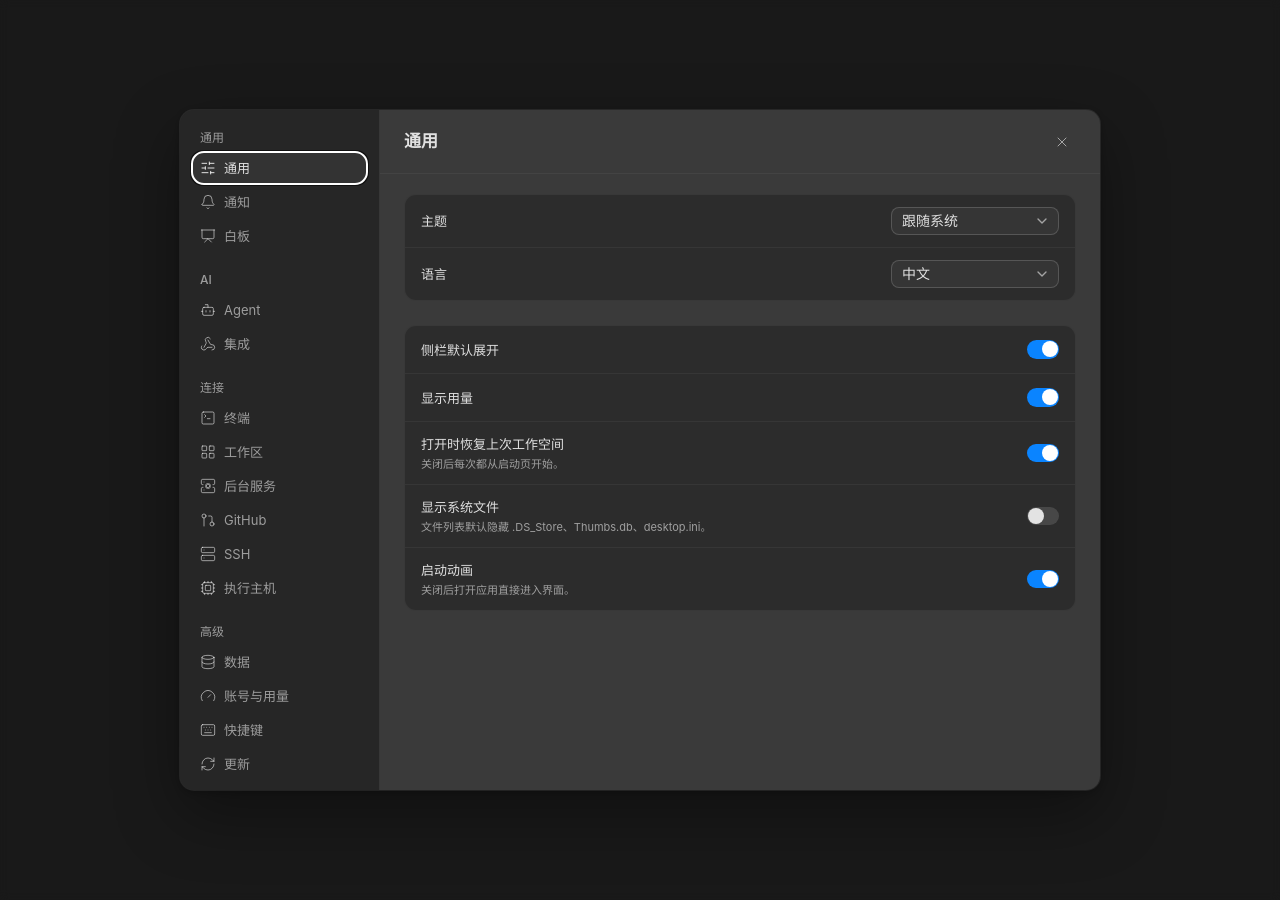
Scenario: SettingsDialog › 数据页读 info 并按选项 PATCH 日志保留天数
Click the button "数据": {"x": 280, "y": 662} [192,646,367,678]
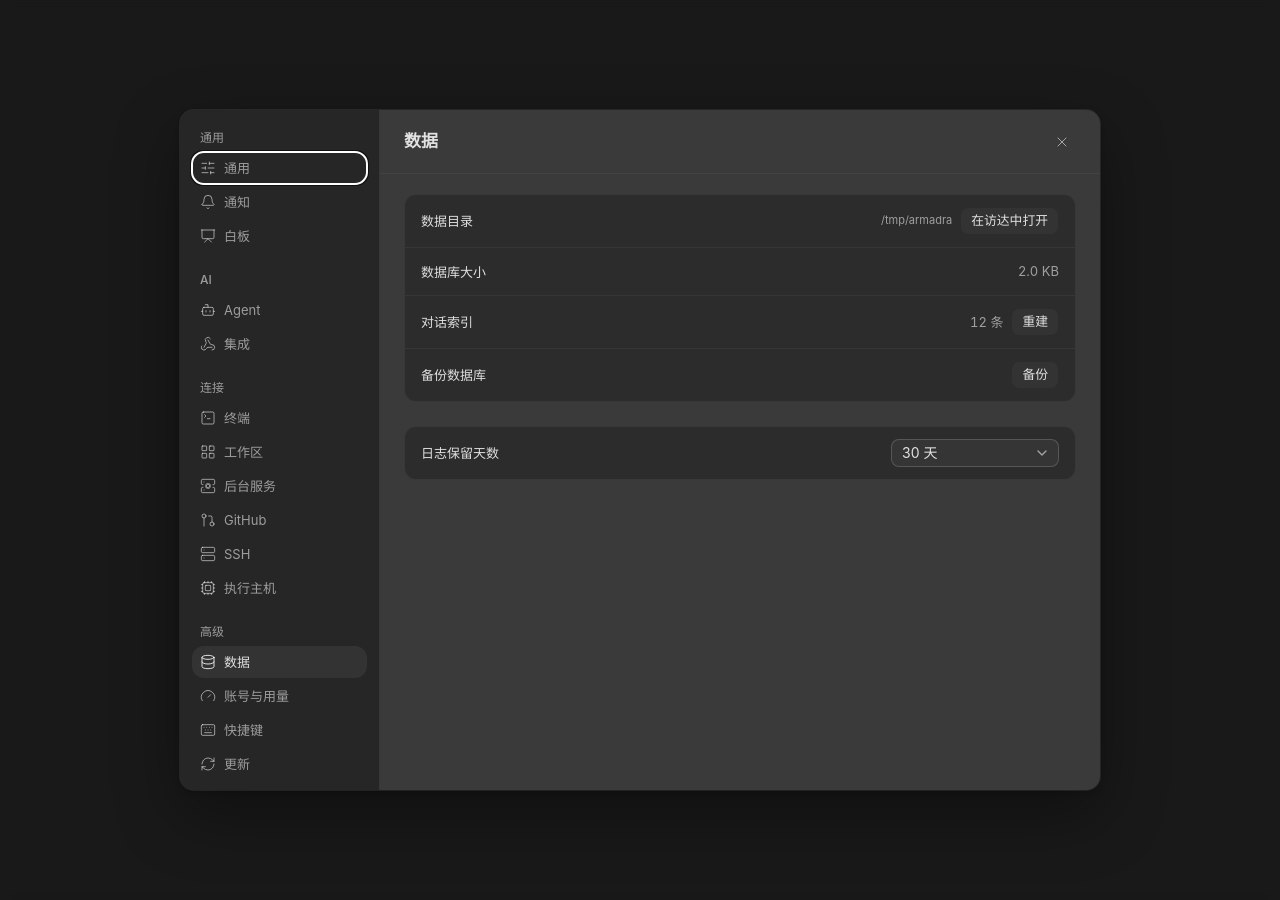
Result: the text "/tmp/armadra" is shown at [881,213,952,229]
Result: the text "2.0 KB" is shown at [1018,262,1059,281]
